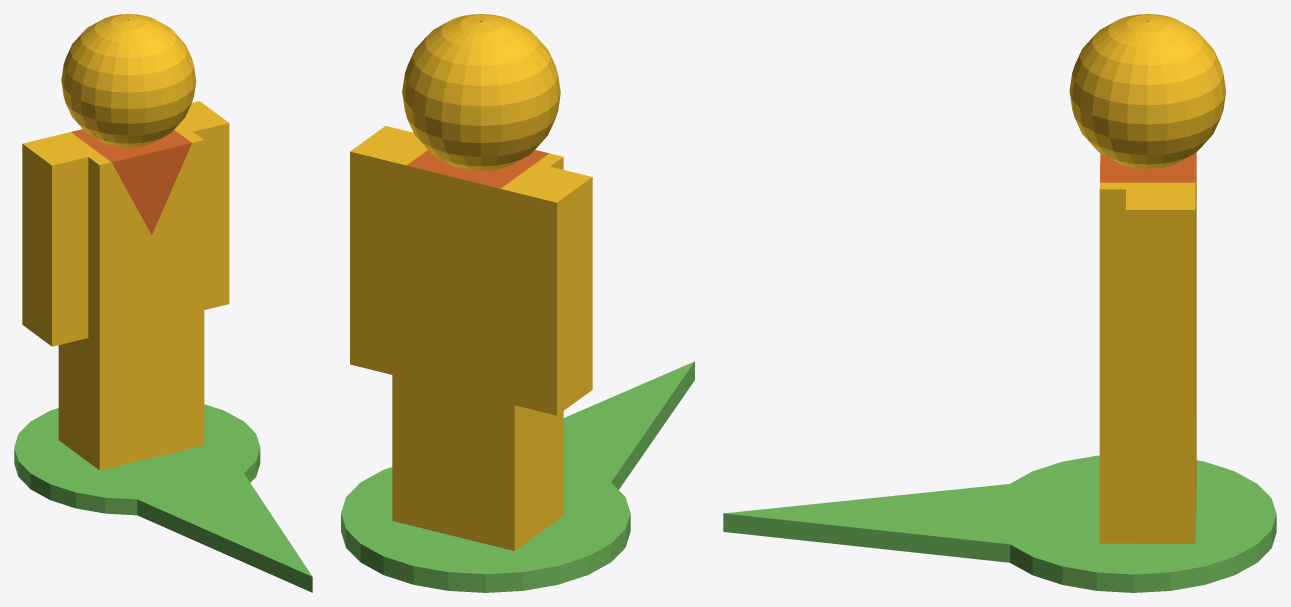
Rendered from Pegman.glb.
3 renders of one model, left to right at view 1: azimuth 30°, elevation 25°; view 2: azimuth 150°, elevation 25°; view 3: azimuth 270°, elevation 25°, orthographic. The views are drawn at different scales.
Visible parts, largest first — view 1: G-Object.001, G-Object, _C-Google Guy (Loose Mesh); view 2: G-Object.001, G-Object, _C-Google Guy (Loose Mesh); view 3: G-Object.001, G-Object, _C-Google Guy (Loose Mesh).
Boxes of the visible parts, x1,y1,x2,y2 form: G-Object.001: [22, 101, 229, 470]; G-Object: [14, 404, 312, 592]; _C-Google Guy (Loose Mesh): [61, 14, 196, 147]; G-Object.001: [350, 126, 592, 550]; G-Object: [341, 361, 694, 592]; _C-Google Guy (Loose Mesh): [402, 14, 560, 170]; G-Object.001: [1099, 152, 1196, 543]; G-Object: [723, 455, 1276, 592]; _C-Google Guy (Loose Mesh): [1069, 14, 1226, 168].
Bounding box in the file's own units: 0.899 × 1.77 × 1.74.
